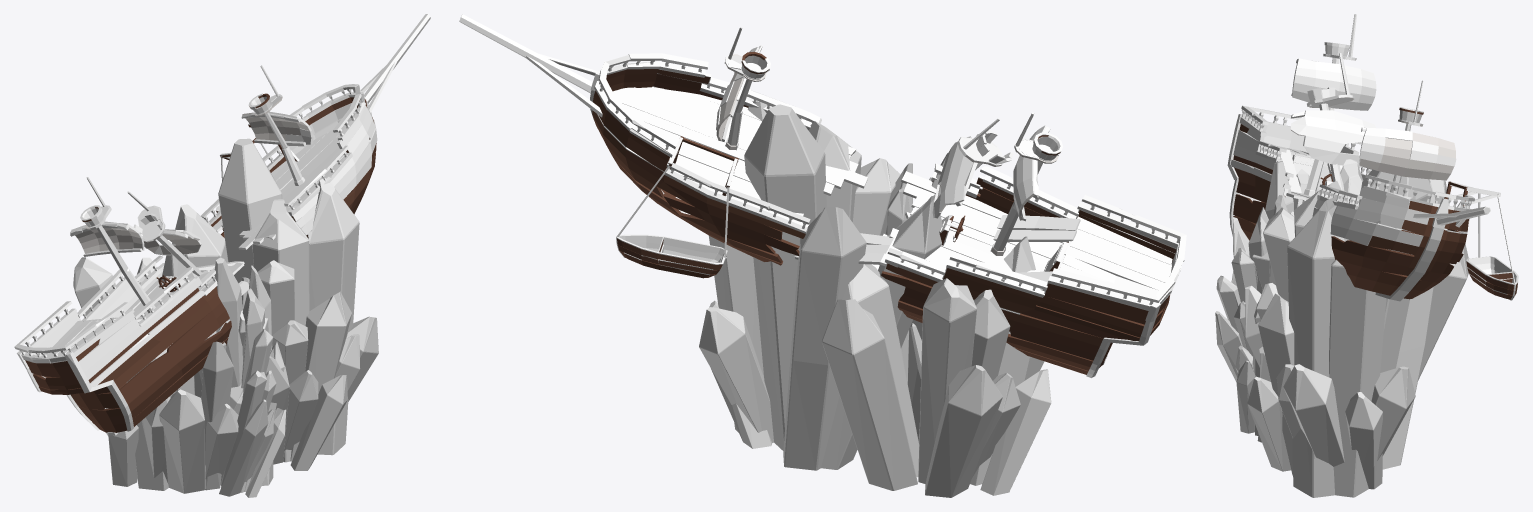
Rendered from Ship Wreck.fbx.
3 views of the same model, side by side, from view 1: azimuth 30°, elevation 25°; view 2: azimuth 150°, elevation 25°; view 3: azimuth 270°, elevation 25° (orthographic). The views are drawn at different scales.
Visible parts, largest first — view 1: Ship Wreck; view 2: Ship Wreck; view 3: Ship Wreck.
Part boxes in pixels (bbox=[...]): Ship Wreck: bbox=[14, 14, 430, 497]; Ship Wreck: bbox=[459, 14, 1186, 497]; Ship Wreck: bbox=[1215, 14, 1518, 497].
Bounding box in the file's own units: 48.04 × 33.26 × 22.91.
